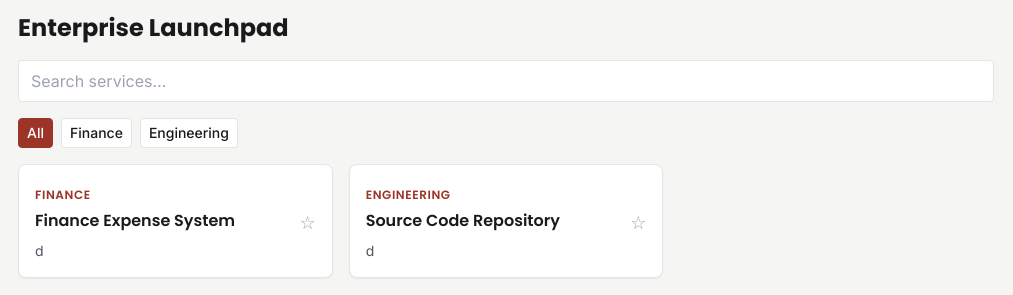
Test: CatalogHome › filters results as the user types in search
This screenshot has width=1013, height=295.
Expected: the button "Finance Expense System" is shown, [35,209,235,233]
Step 1. Type "expence" into the search field → coordinates (506, 81), box [18,60,994,102]
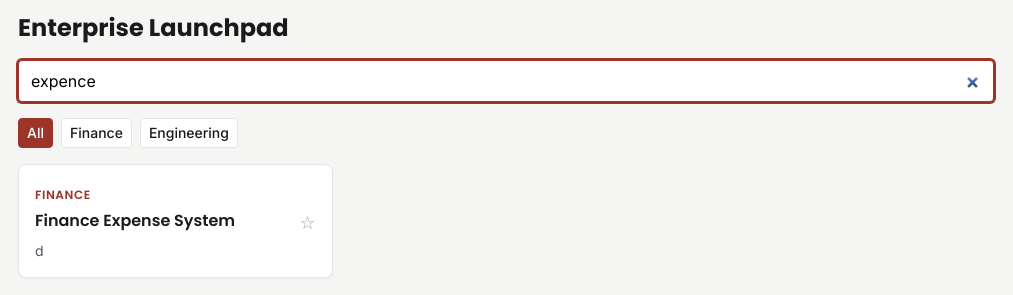
Expected: the button "Finance Expense System" is shown, [35,209,235,233]
Expected: the button "Source Code Repository" is gone
